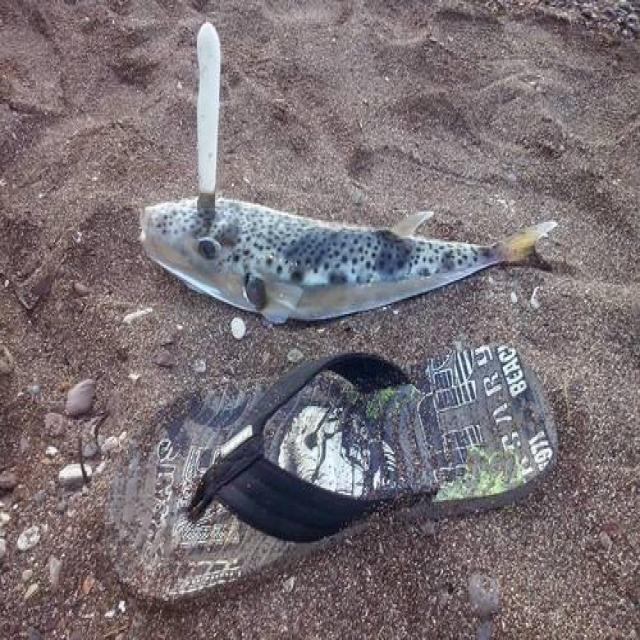Balik: (141, 198, 555, 322)
